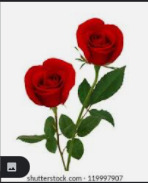RedRose: (23, 56, 76, 108), (71, 15, 124, 67)
